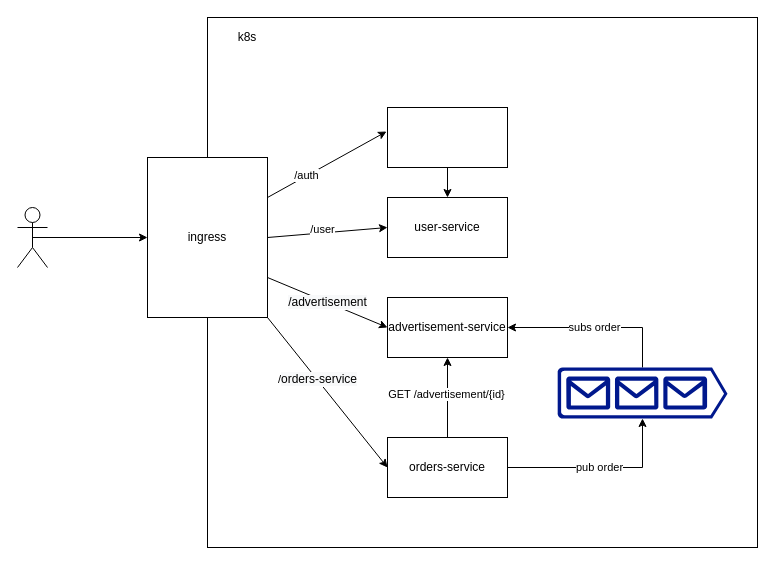
This 775x565 diagram has some shape labels left out. The shapes that lost their labels are listed below. From the top down, each one's centre as x and y in pixels, then its label:
the point at 447,137: auth-service
the point at 32,237: Actor
